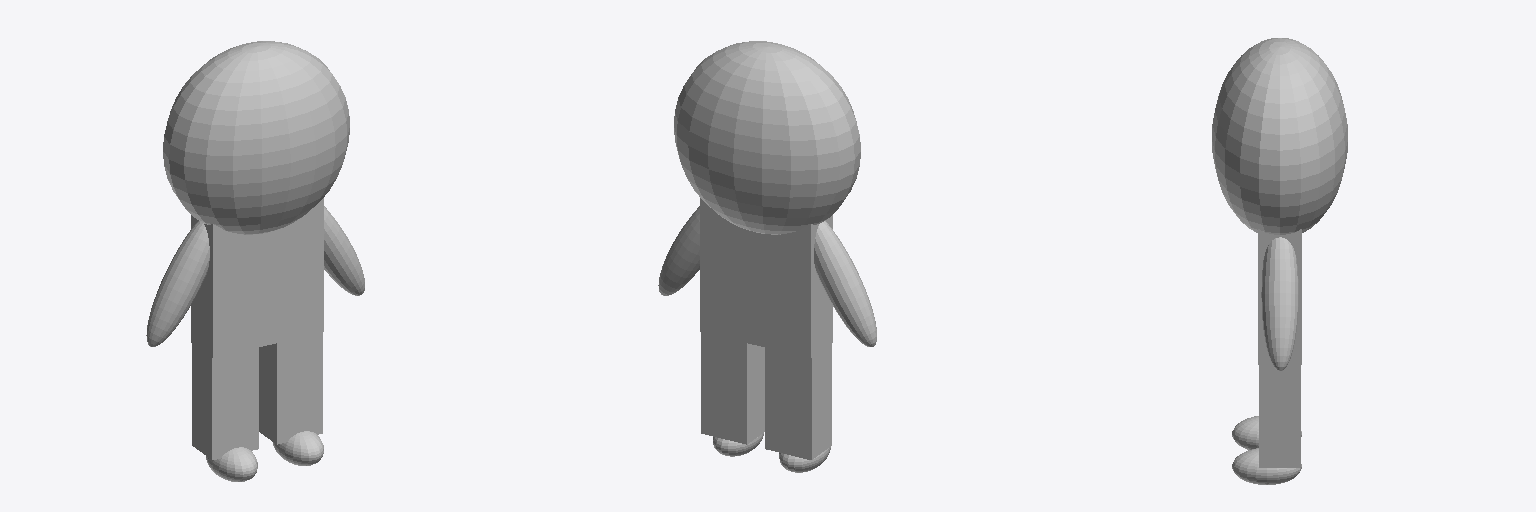
File: Shopkeeper.obj
3 renders of one model, left to right at view 1: azimuth 30°, elevation 25°; view 2: azimuth 150°, elevation 25°; view 3: azimuth 270°, elevation 25°, orthographic.
Parts seen in each view (by area): view 1: pasted__pasted__pasted__polySurface13 pasted__group group pasted, pasted__polySurface1 pasted__pasted__pasted__polySurface13 paste; view 2: pasted__pasted__pasted__polySurface13 pasted__group group pasted, pasted__polySurface1 pasted__pasted__pasted__polySurface13 paste; view 3: pasted__pasted__pasted__polySurface13 pasted__group group pasted.
Part boxes in pixels (left/top/right/bottom): pasted__pasted__pasted__polySurface13 pasted__group group pasted: left=163, top=41, right=364, bottom=481; pasted__polySurface1 pasted__pasted__pasted__polySurface13 paste: left=146, top=221, right=209, bottom=346; pasted__pasted__pasted__polySurface13 pasted__group group pasted: left=658, top=41, right=860, bottom=472; pasted__polySurface1 pasted__pasted__pasted__polySurface13 paste: left=814, top=221, right=876, bottom=346; pasted__pasted__pasted__polySurface13 pasted__group group pasted: left=1212, top=38, right=1347, bottom=484.
Bounding box in the file's own units: 2.47 × 4.57 × 1.36.